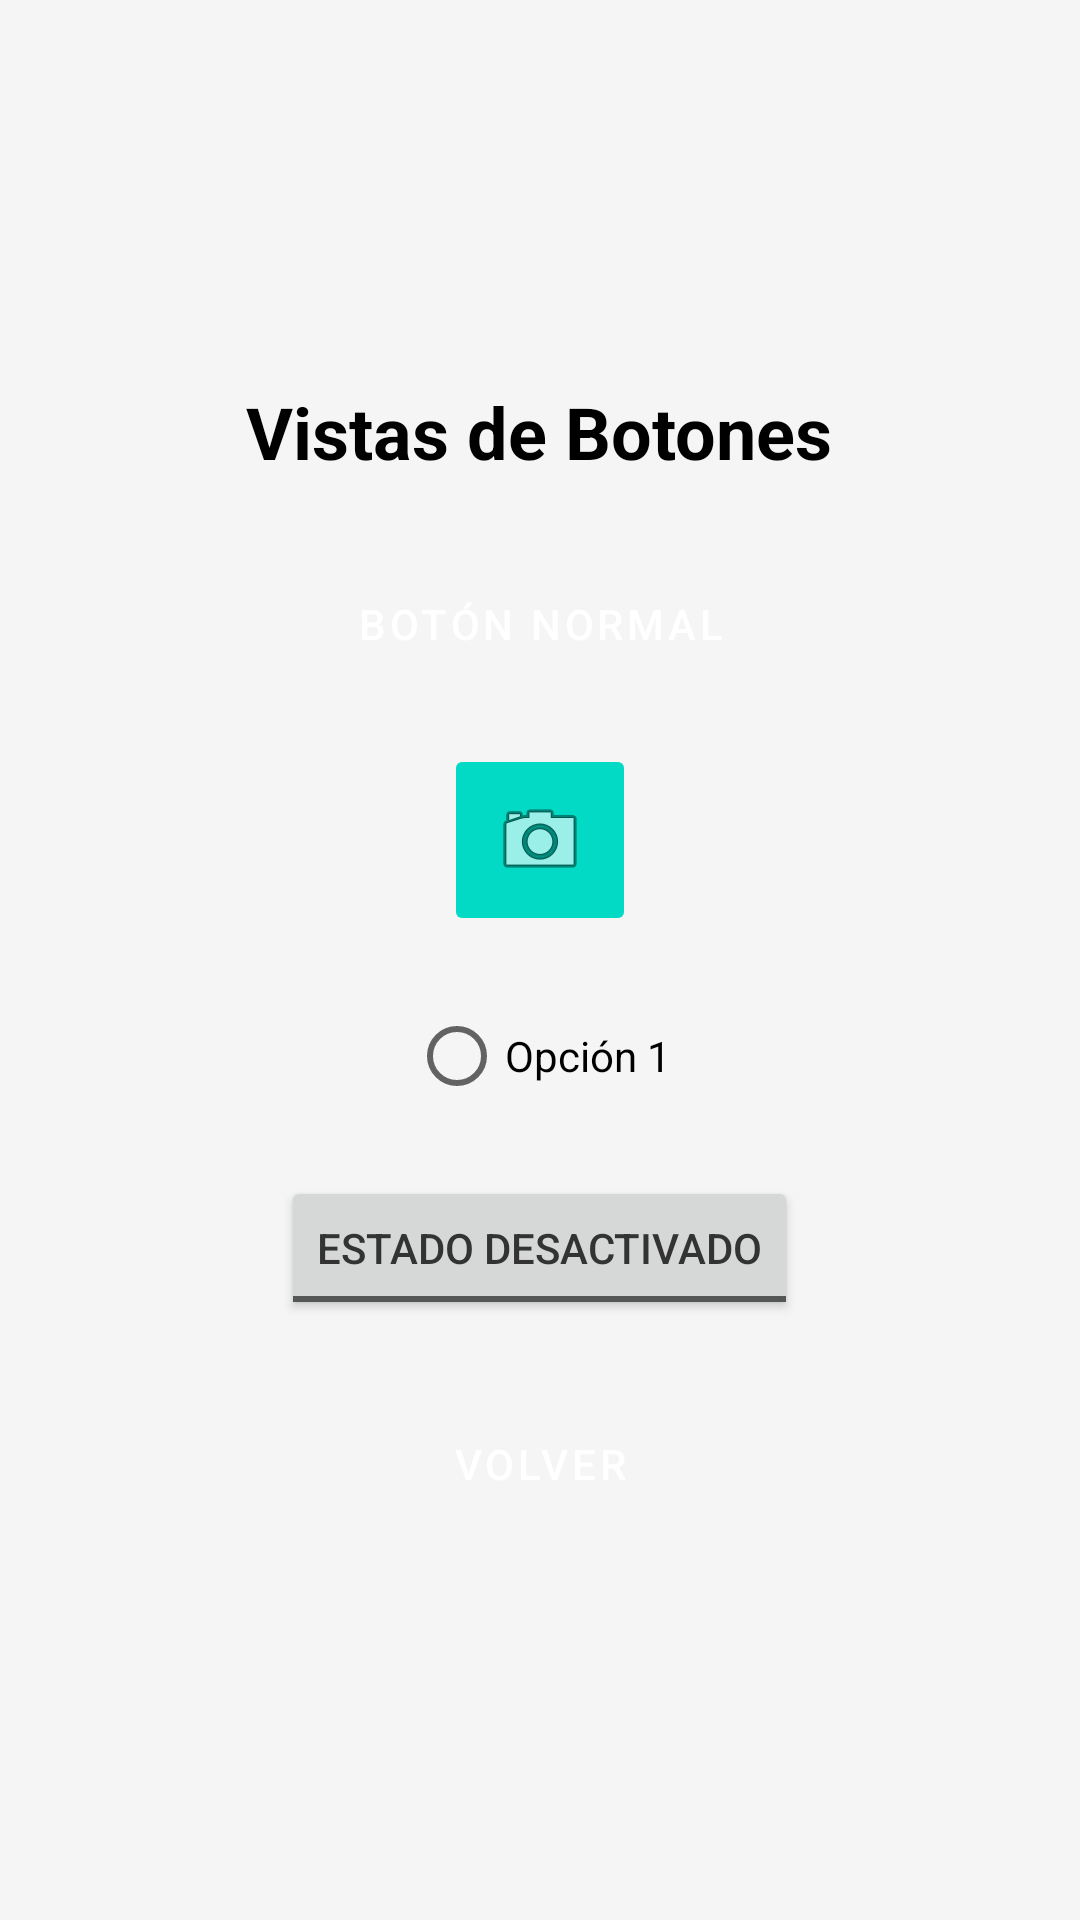

Named icons in this screenshot (1080 × 1920) and their centers, [x,y]:
Botón con imagen de cámara: [540,840]
